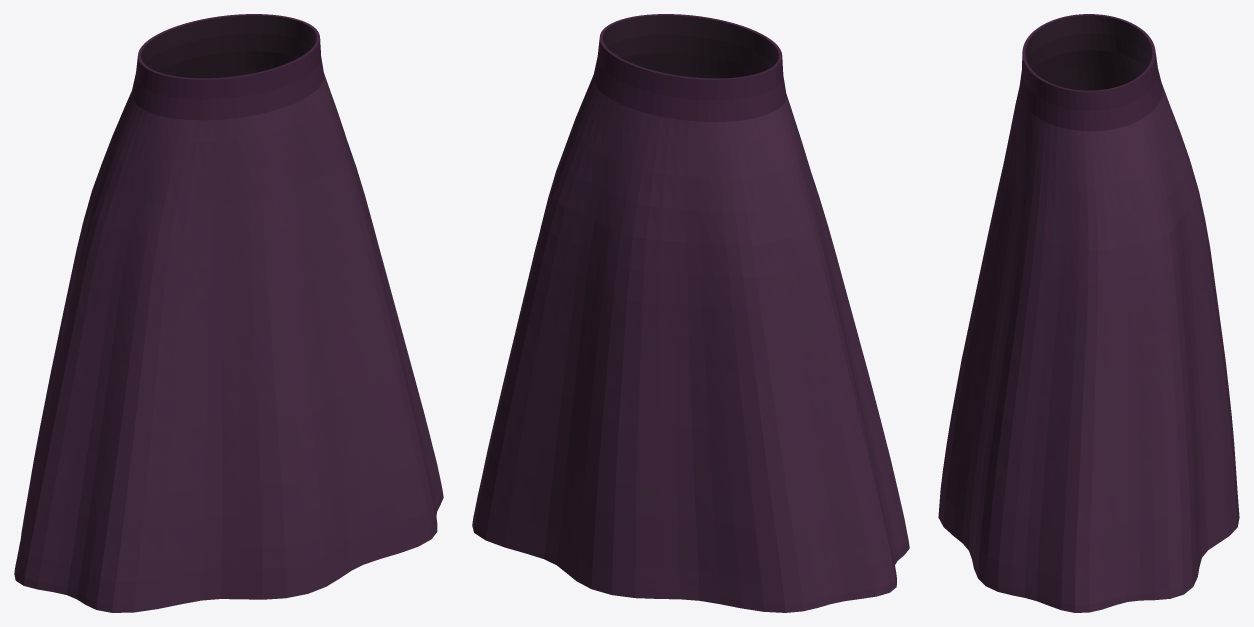
Rendered from mara-midi.obj.
The picture shows the model from 3 angles, left to right: view 1: azimuth 30°, elevation 25°; view 2: azimuth 150°, elevation 25°; view 3: azimuth 270°, elevation 25°; orthographic projection. The views are drawn at different scales.
Parts seen in each view (by area): view 1: outer-plum, inside, outer-band, rims; view 2: outer-plum, inside, outer-band, rims; view 3: outer-plum, inside, outer-band, rims.
Part boxes in pixels (bbox=[...]): outer-plum: bbox=[14, 73, 443, 612]; inside: bbox=[141, 15, 316, 78]; outer-band: bbox=[131, 39, 324, 120]; rims: bbox=[138, 14, 319, 79]; outer-plum: bbox=[472, 75, 909, 612]; inside: bbox=[603, 15, 778, 78]; outer-band: bbox=[593, 39, 786, 121]; rims: bbox=[599, 14, 782, 79]; outer-plum: bbox=[938, 84, 1239, 612]; inside: bbox=[1025, 15, 1152, 90]; outer-band: bbox=[1019, 53, 1162, 131]; rims: bbox=[1022, 14, 1155, 91].
Size of the model in its own units: 0.8817 by 1 by 0.5875.
